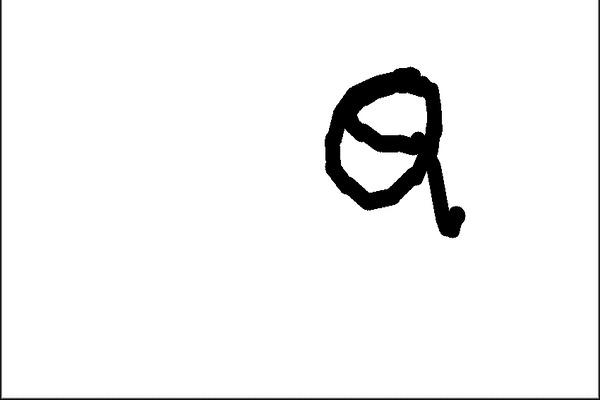Q: (323, 57, 464, 247)
